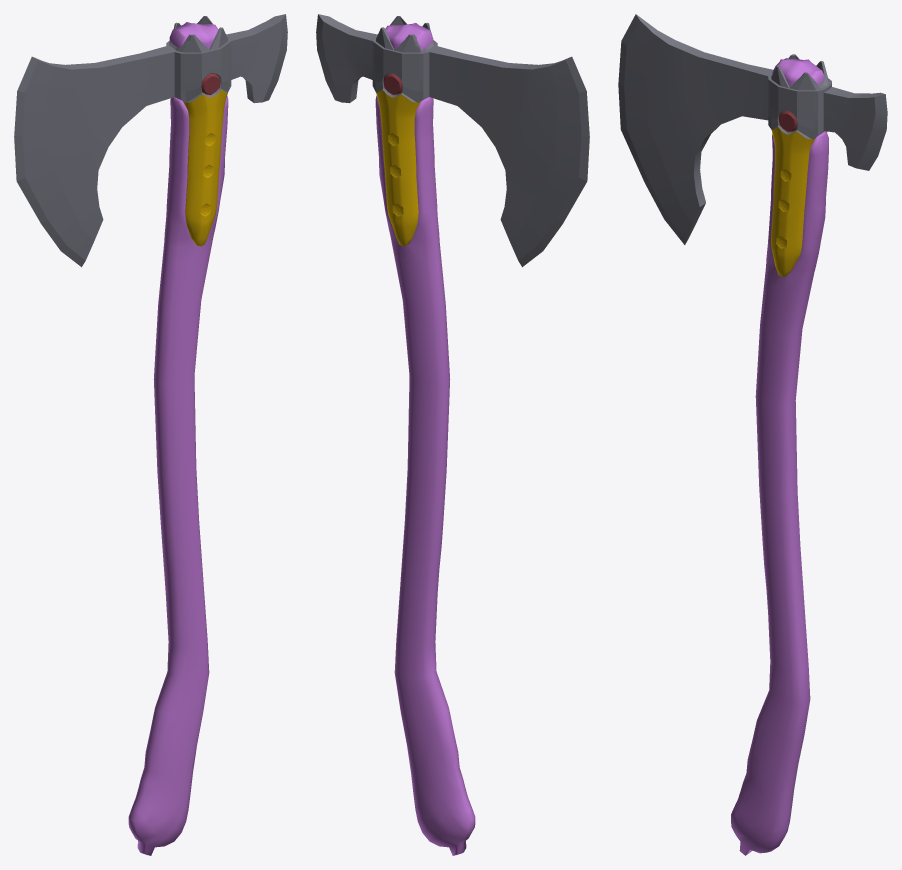
The model's file is LevithianAxe.fbx.
3 views of the same model, side by side, from view 1: azimuth 30°, elevation 25°; view 2: azimuth 150°, elevation 25°; view 3: azimuth 330°, elevation 25° (orthographic).
Parts seen in each view (by area): view 1: polySurface4; view 2: polySurface4; view 3: polySurface4.
Boxes of the visible parts, x1,y1,x2,y2 form: polySurface4: (14,14,287,855); polySurface4: (316,14,589,855); polySurface4: (618,14,887,855).
Bounding box in the file's own units: 6.66 × 19.2 × 1.12.
